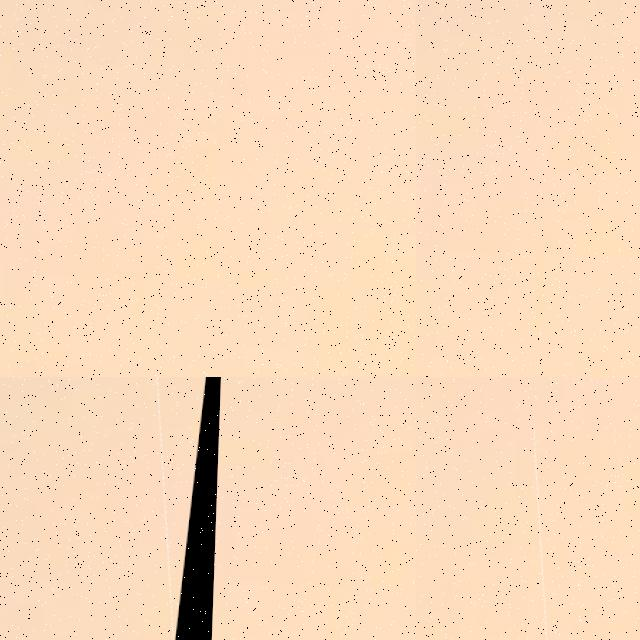drone: (0, 377, 226, 640), (523, 377, 640, 640)
